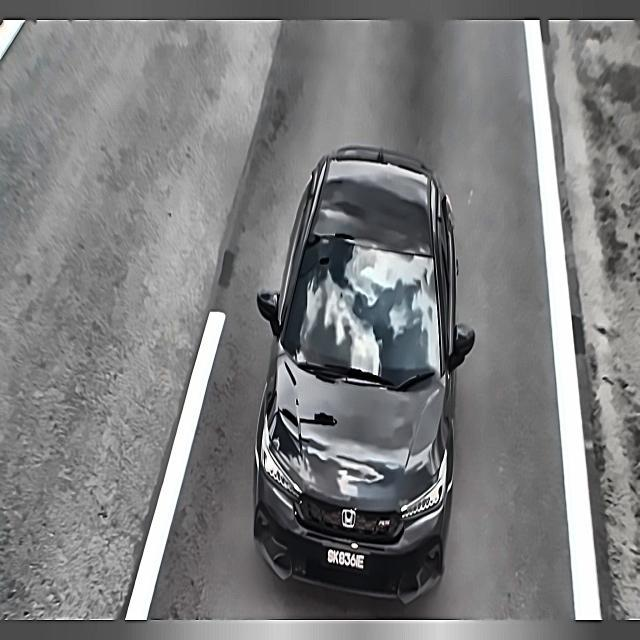car: (323, 537, 368, 579)
